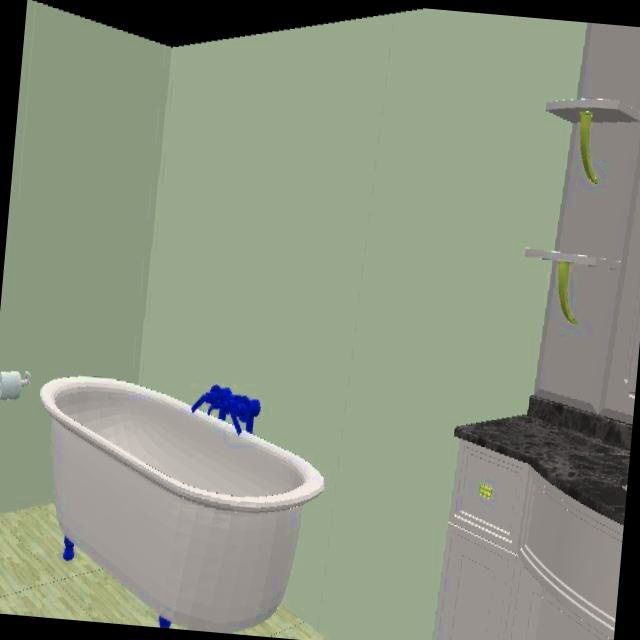bathtube: (39, 377, 325, 633)
